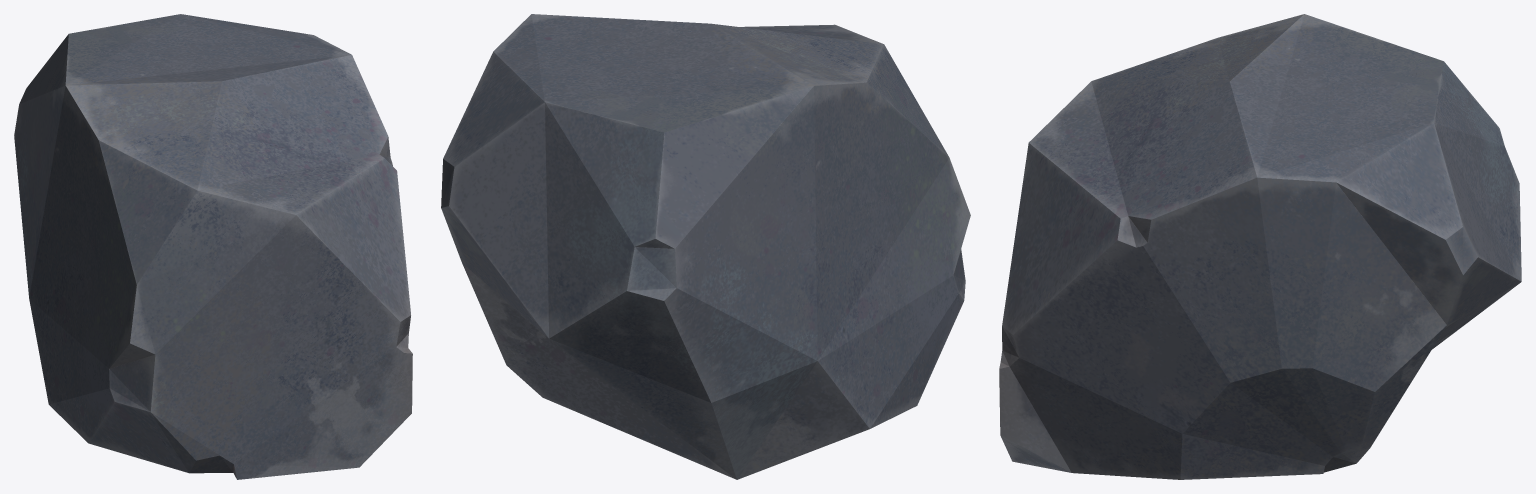
File: rock7.glb
3 renders of one model, left to right at view 1: azimuth 30°, elevation 25°; view 2: azimuth 150°, elevation 25°; view 3: azimuth 270°, elevation 25°, orthographic. The views are drawn at different scales.
Visible parts, largest first — view 1: Object_55; view 2: Object_55; view 3: Object_55.
Part boxes in pixels (box(x1,y1,x2,y2)): Object_55: box(14, 14, 412, 479); Object_55: box(441, 14, 970, 479); Object_55: box(999, 14, 1521, 479).
Bounding box in the file's own units: 5.3 × 5.2 × 6.82.
1 material, 1 textured.
